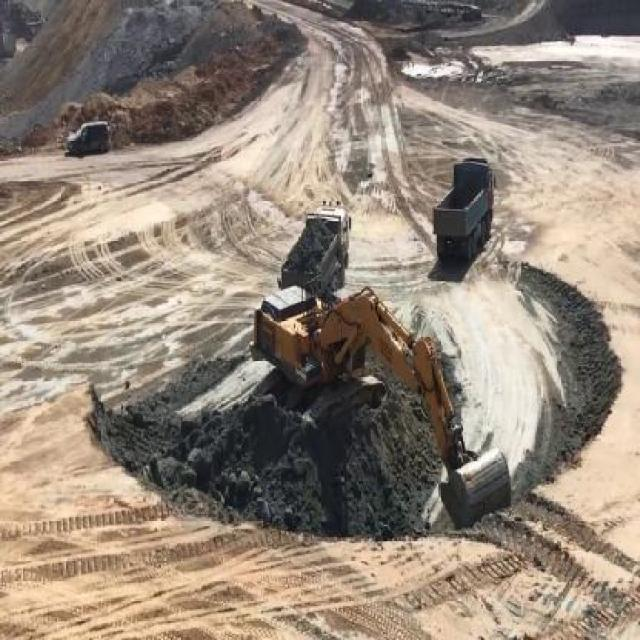dump_truck: (432, 152, 496, 263), (278, 197, 352, 292)
excavator: (248, 283, 510, 531)
